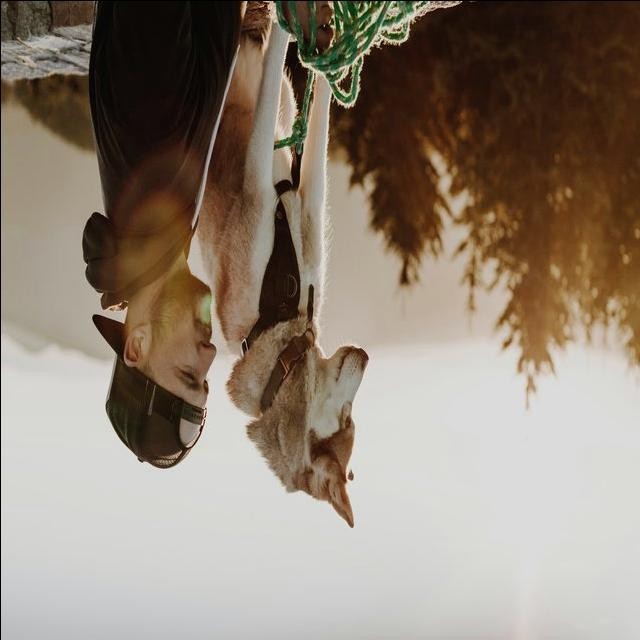husky: (184, 3, 368, 529)
